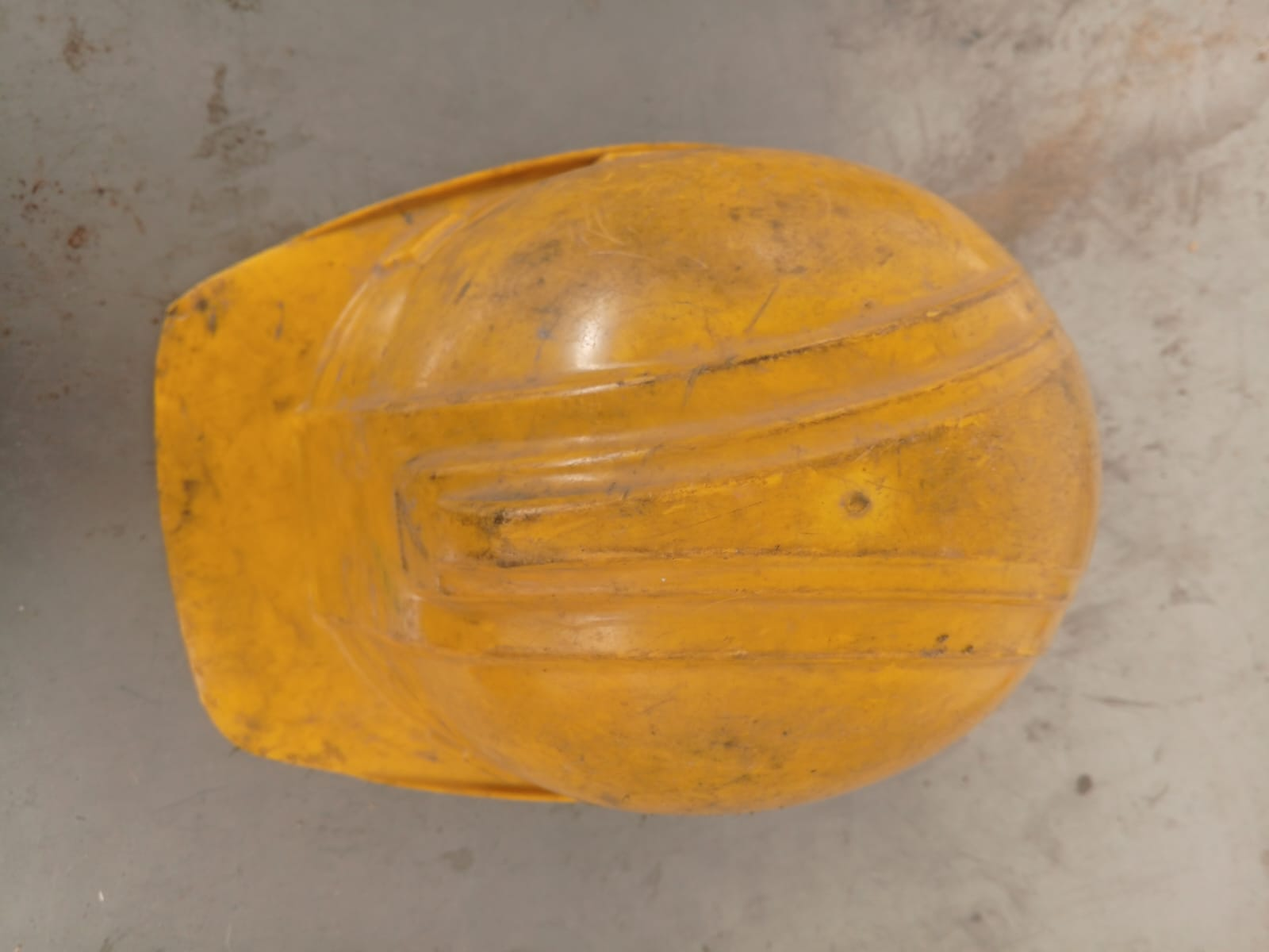Plastico: (151, 142, 1102, 813)
